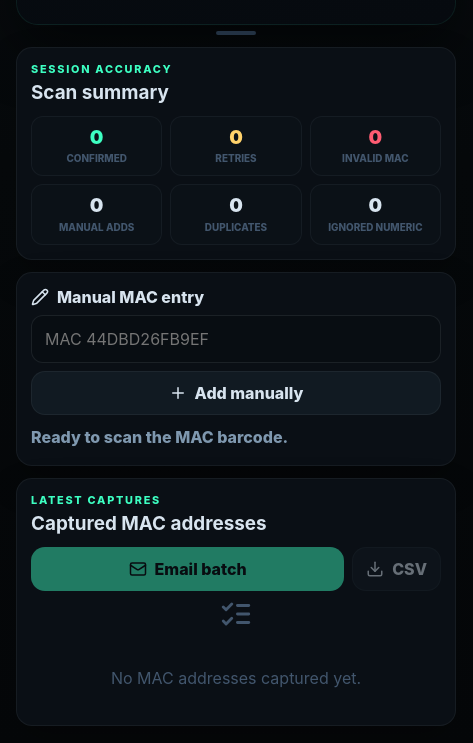
Test: App › blocks duplicate manual MAC captures
(page scrolled)
Type "44DBD26FB9EF" into the field labelled "Manual MAC entry".
click(236, 338); type("44DBD26FB9EF")  # box [31, 314, 441, 362]
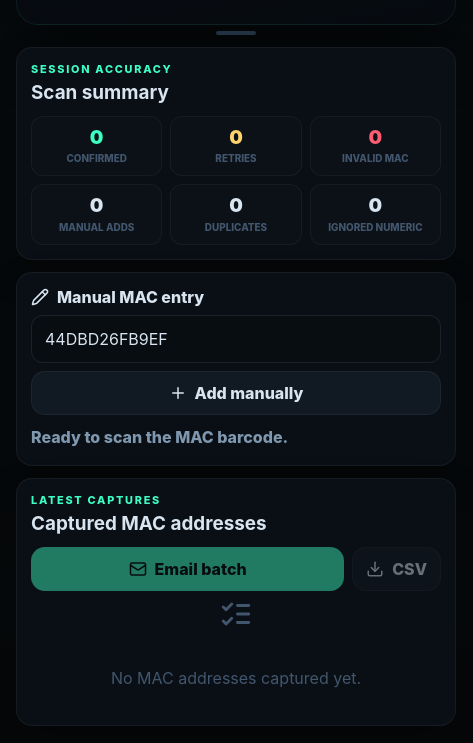
Click the button "Add manually".
click(236, 392)  # box [31, 370, 441, 414]
(page scrolled)
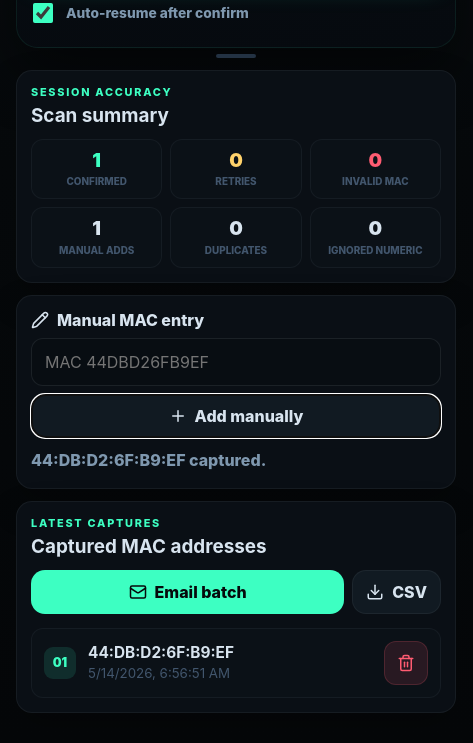
Type "44:DB:D2:6F:B9:EF" into the field labelled "Manual MAC entry".
click(236, 362); type("44:DB:D2:6F:B9:EF")  # box [31, 338, 441, 386]
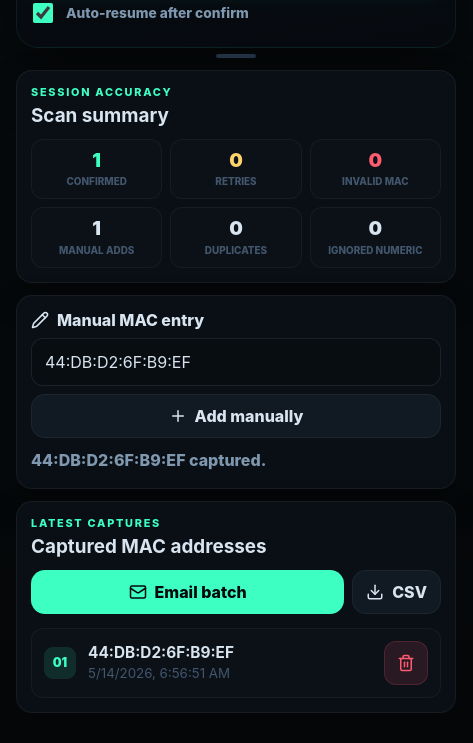
Click the button "Add manually".
click(236, 416)  # box [31, 394, 441, 438]
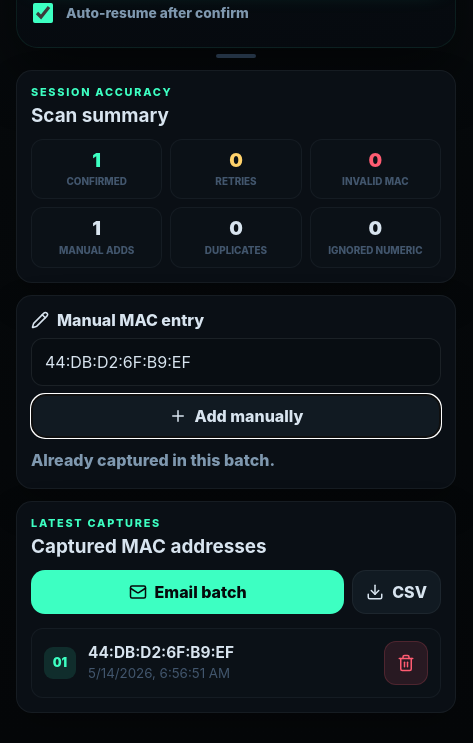
Now the text "44:DB:D2:6F:B9:EF" is shown once, box [88, 643, 234, 662]
Now the text "Already captured in this batch." is shown, box [31, 450, 275, 470]
